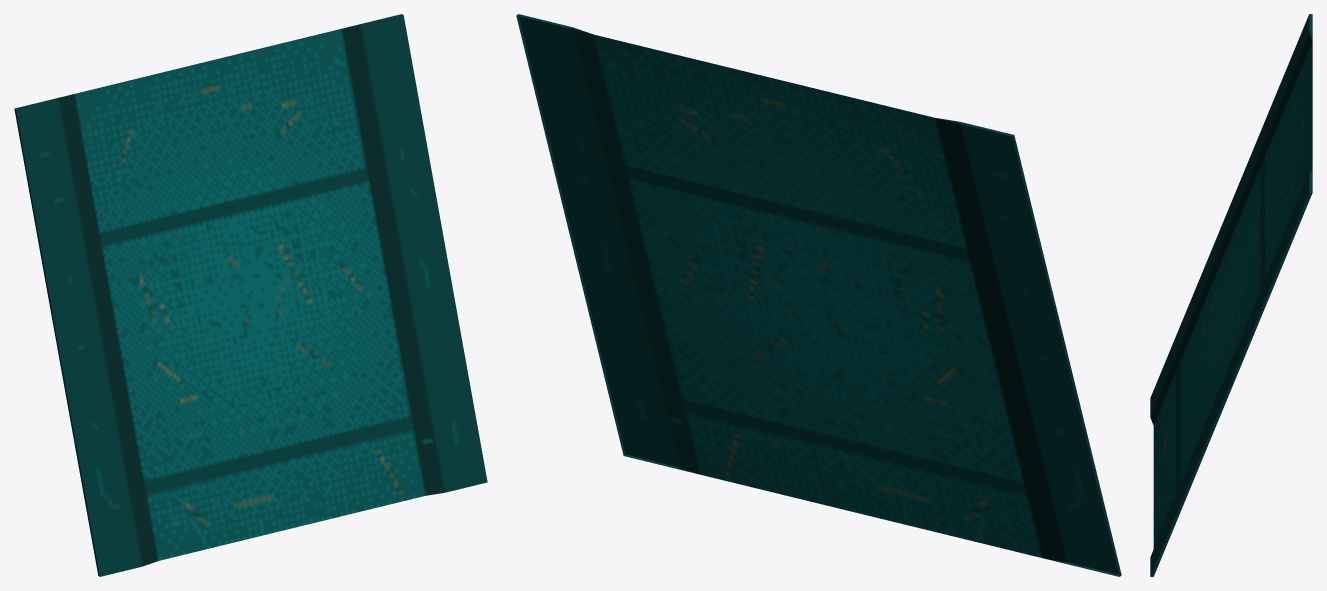
File: med1_9d_ofs96_90.fbx
The picture shows the model from 3 angles, left to right: view 1: azimuth 30°, elevation 25°; view 2: azimuth 150°, elevation 25°; view 3: azimuth 270°, elevation 25°; orthographic projection. The views are drawn at different scales.
Parts seen in each view (by area): view 1: med1_9d_mesh_ofs96_90; view 2: med1_9d_mesh_ofs96_90; view 3: med1_9d_mesh_ofs96_90.
Part boxes in pixels (<box>): med1_9d_mesh_ofs96_90: <box>14,14,487,576</box>; med1_9d_mesh_ofs96_90: <box>516,14,1121,576</box>; med1_9d_mesh_ofs96_90: <box>1150,14,1312,576</box>.
Size of the model in its own units: 256 by 256 by 98.
